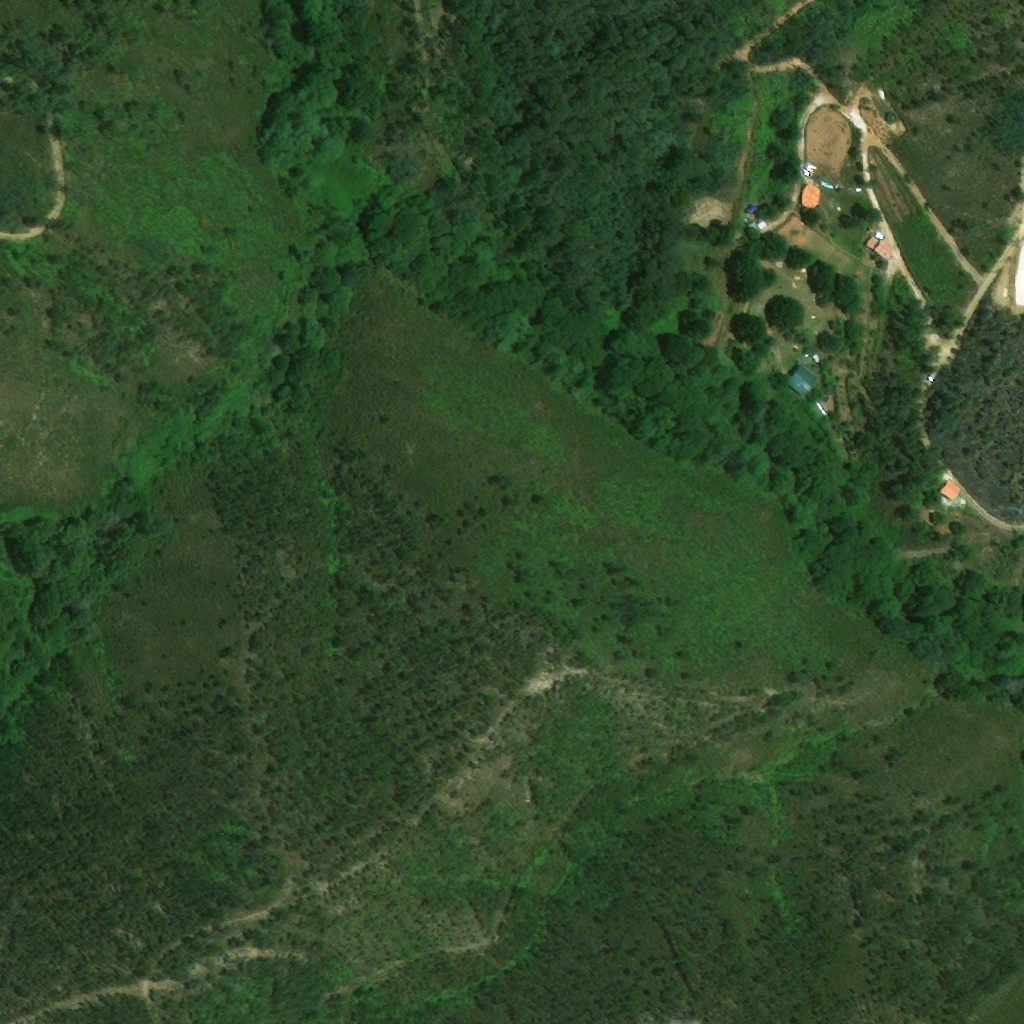0 no-damage: (781, 362, 816, 398), (861, 230, 896, 260), (800, 182, 821, 210), (805, 397, 830, 419), (870, 219, 885, 237), (810, 353, 824, 365), (754, 220, 768, 231), (820, 181, 834, 189), (867, 224, 872, 231)
4 un-classified: (757, 358, 770, 372)
